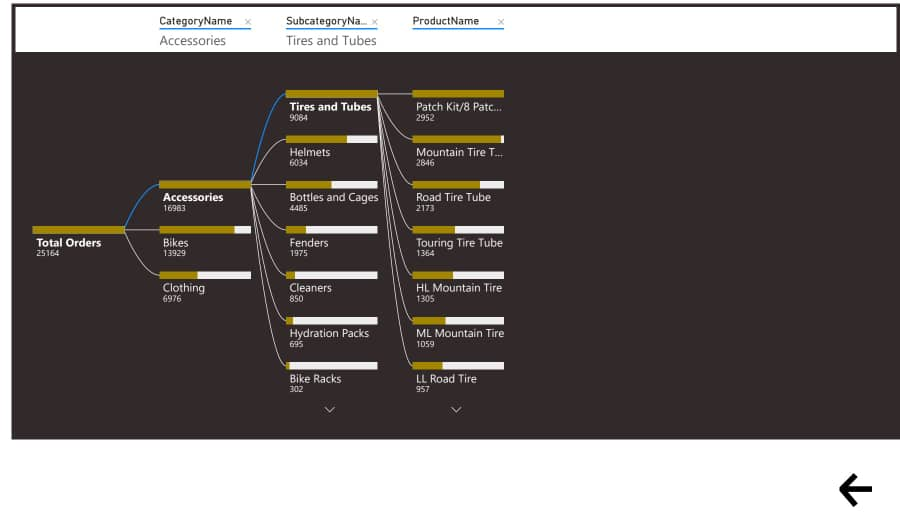

What the dashboard file says about the page in this screenshot:
{"tool":"powerbi","page":{"name":"Decomposition Tree","canvas":[1280,720],"ordinal":4},"visuals":[{"type":"decompositionTreeVisual","fields":{"ExplainBy":["Product Categories Lookup.CategoryName","Product Subcategories Lookup.SubcategoryName","Product Lookup.ProductName"],"Analyze":["Calculated Measure.Total Orders"]},"box":[16.8,0,1263.2,619.8],"z":0},{"type":"actionButton","box":[1157.4,663.5,122.6,57.1],"z":1000}]}

Visuals, with their boxes in screenshot pixels (x1, y1, x2, y2), scaled from the page's 1280x720 canvas onto the 900x513 screenshot:
decompositionTreeVisual - Product Categories Lookup.CategoryName x Product Subcategories Lookup.SubcategoryName: (12,0,899,442)
actionButton: (814,473,899,512)
